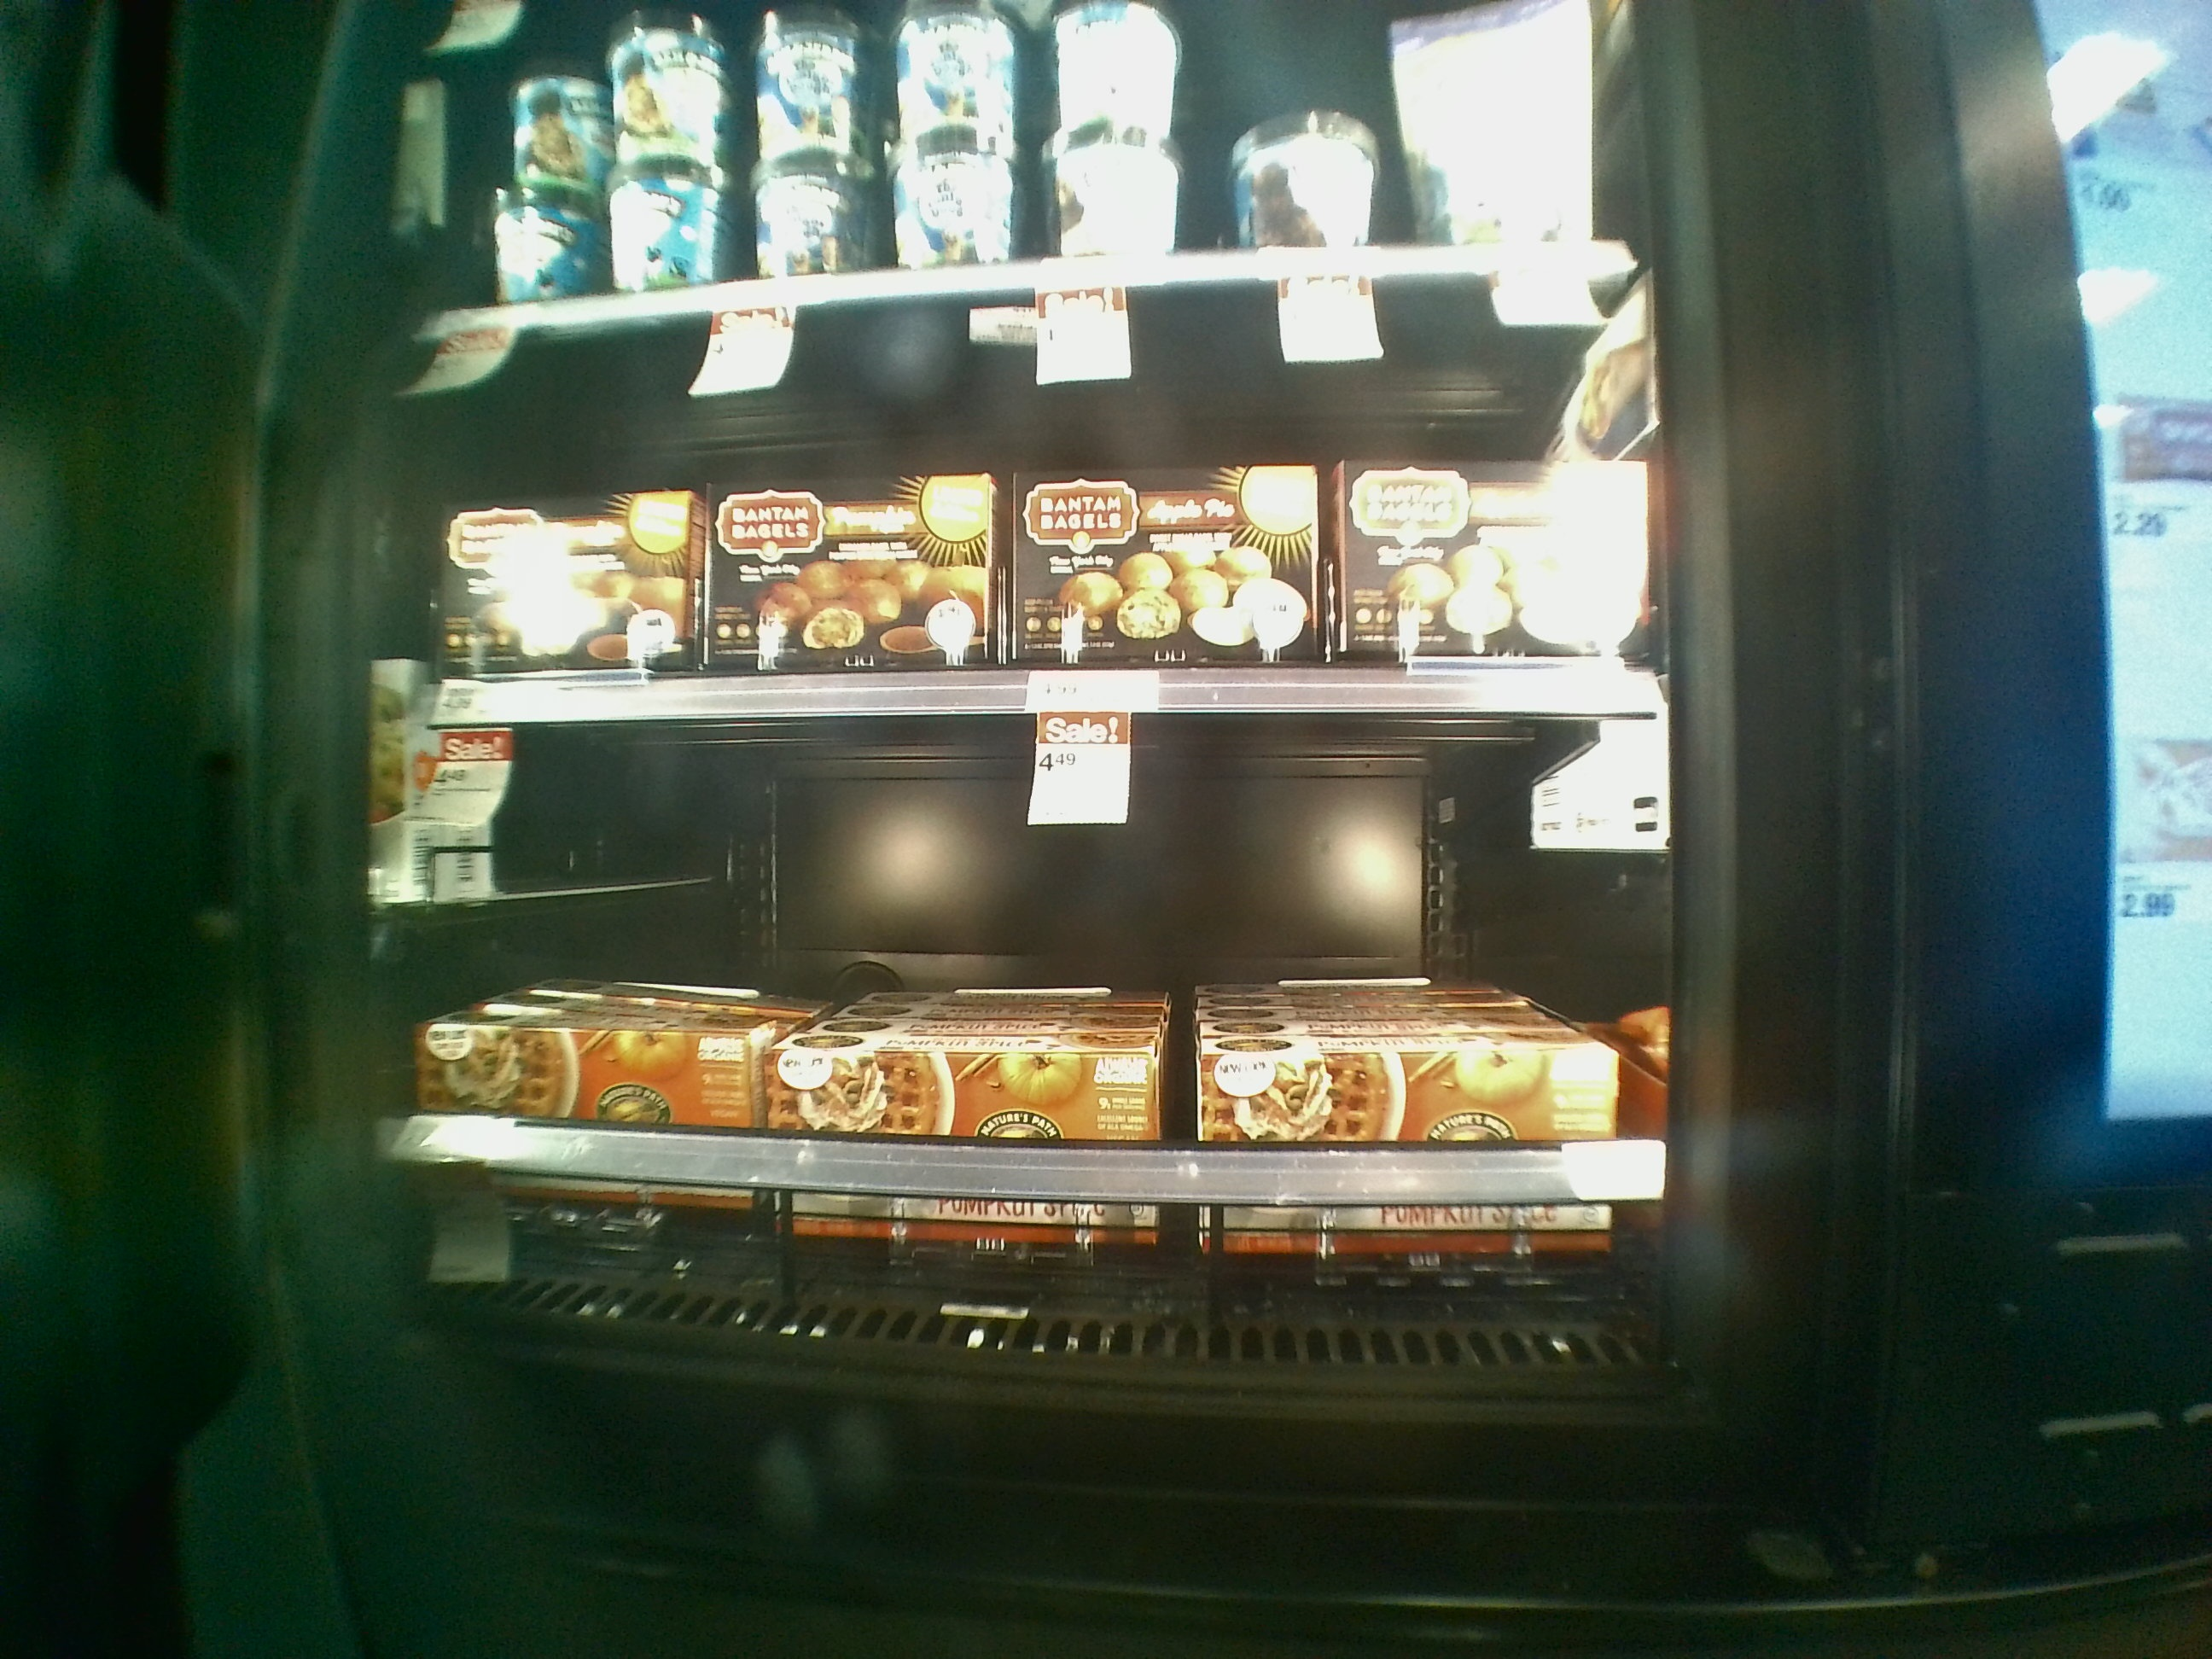shelf: (387, 711, 1688, 1384), (387, 324, 1679, 723)
